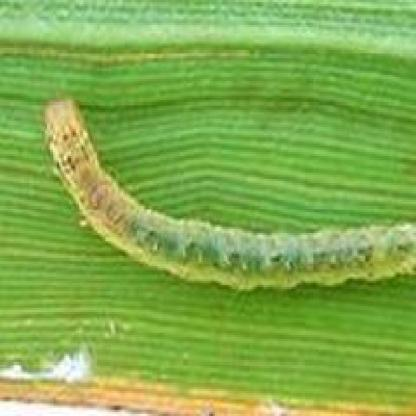leaf-folder: (33, 89, 416, 306)
